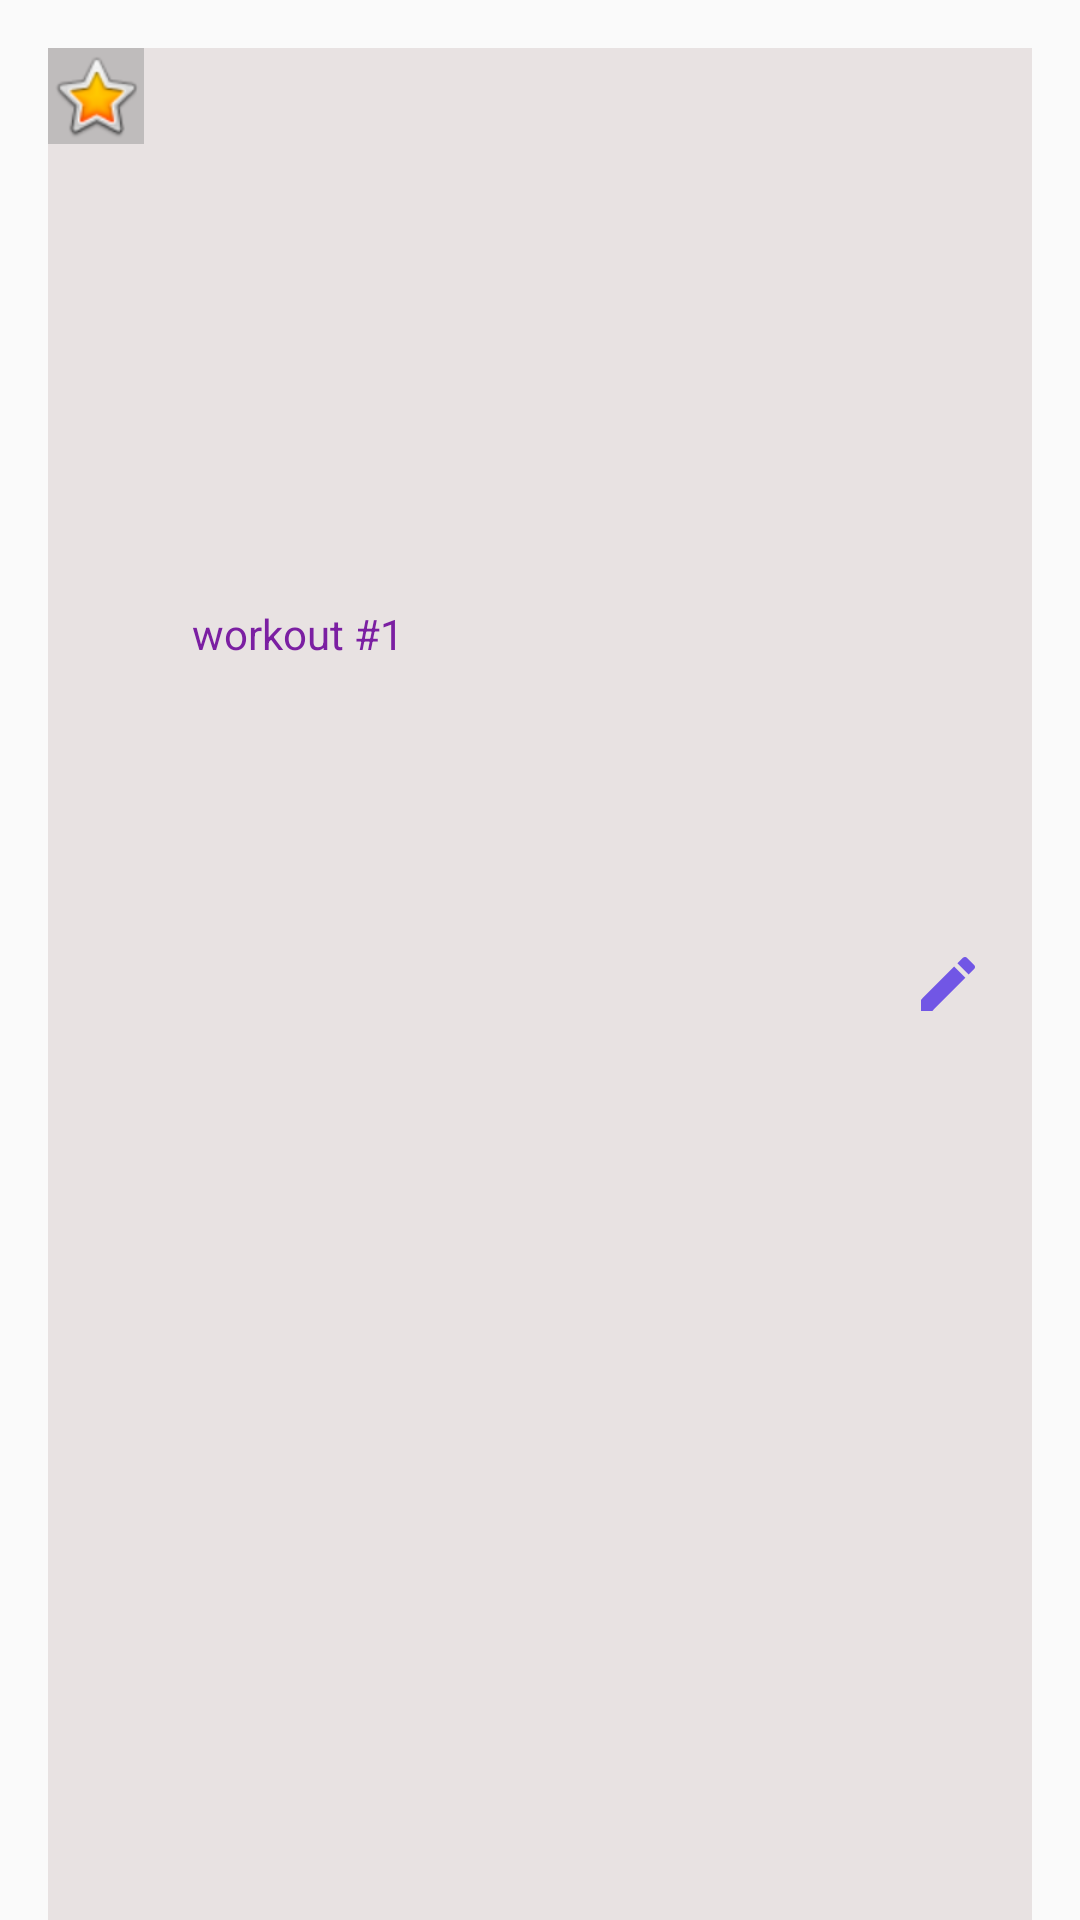

Icons on this 1080×1920 Android screen, each with its box as rect(x1, y1, x2, y2):
edit: rect(921, 957, 975, 1011)
star on: rect(48, 48, 144, 144)
